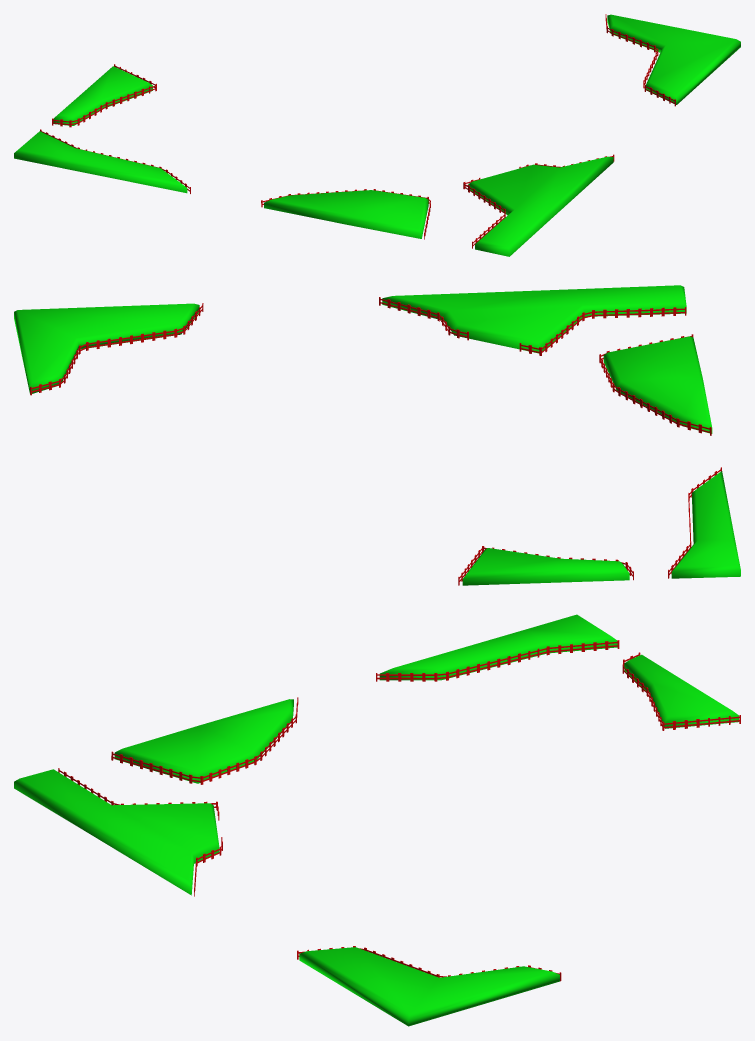
Rendered from Fields.fbx.
3 views of the same model, one above another, from view 1: azimuth 30°, elevation 25°; view 2: azimuth 150°, elevation 25°; view 3: azimuth 270°, elevation 25° (orthographic). The views are drawn at different scales.
Visible parts, largest first — view 1: mesh_Fields; view 2: mesh_Fields; view 3: mesh_Fields.
Boxes of the visible parts, left/top/right/bottom form: mesh_Fields: left=14, top=14, right=740, bottom=256; mesh_Fields: left=14, top=285, right=740, bottom=585; mesh_Fields: left=14, top=614, right=740, bottom=1026.
Size of the model in its own units: 8637 by 105 by 6569.
